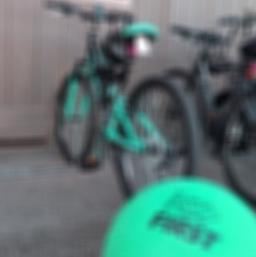algae: (100, 173, 256, 257)
